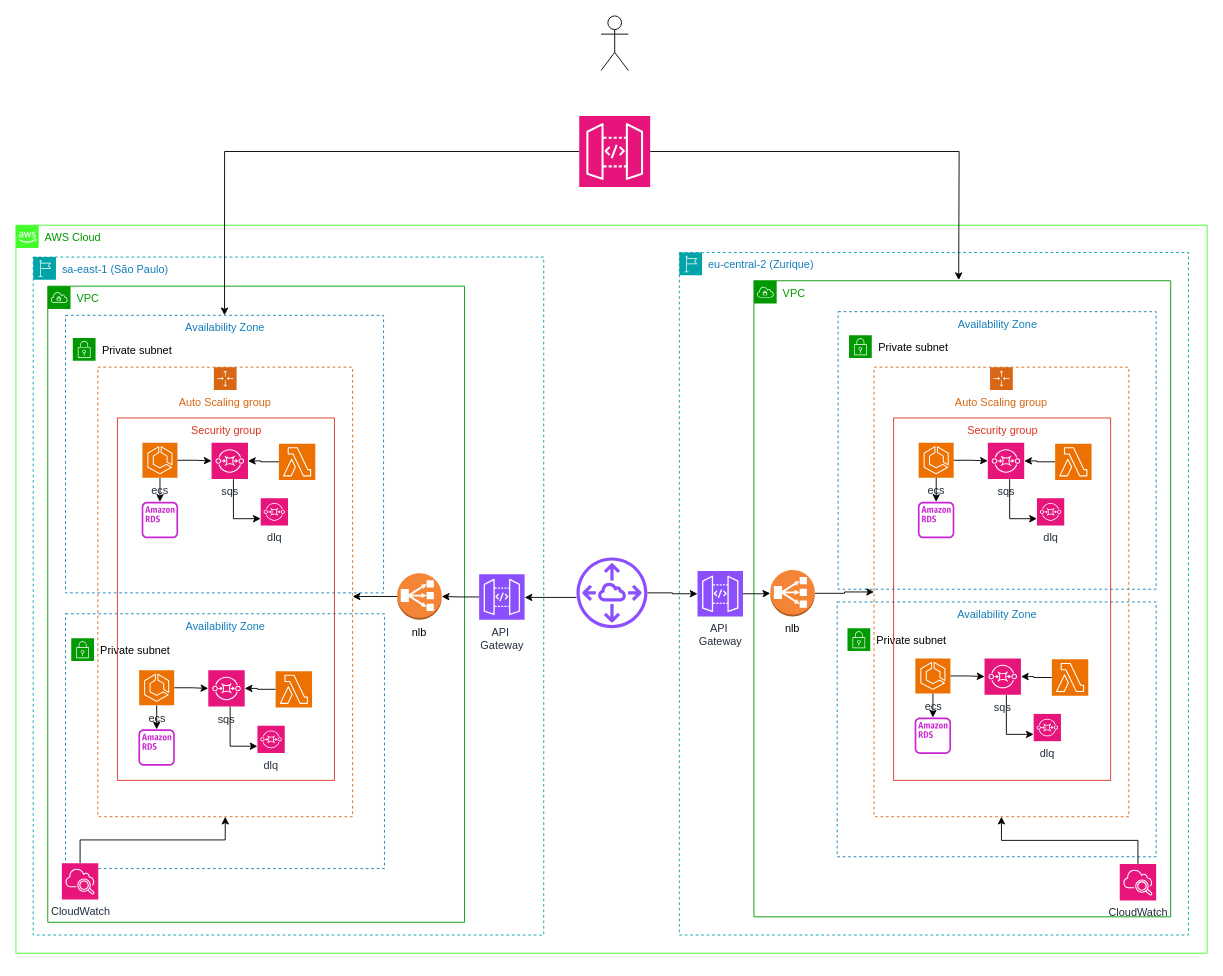
This 1223x976 diagram has some shape labels left out. Each missing label, with the centre of its shape:
gtw: (x=614, y=151)
User: (x=614, y=43)
vpc peering: (x=611, y=592)
